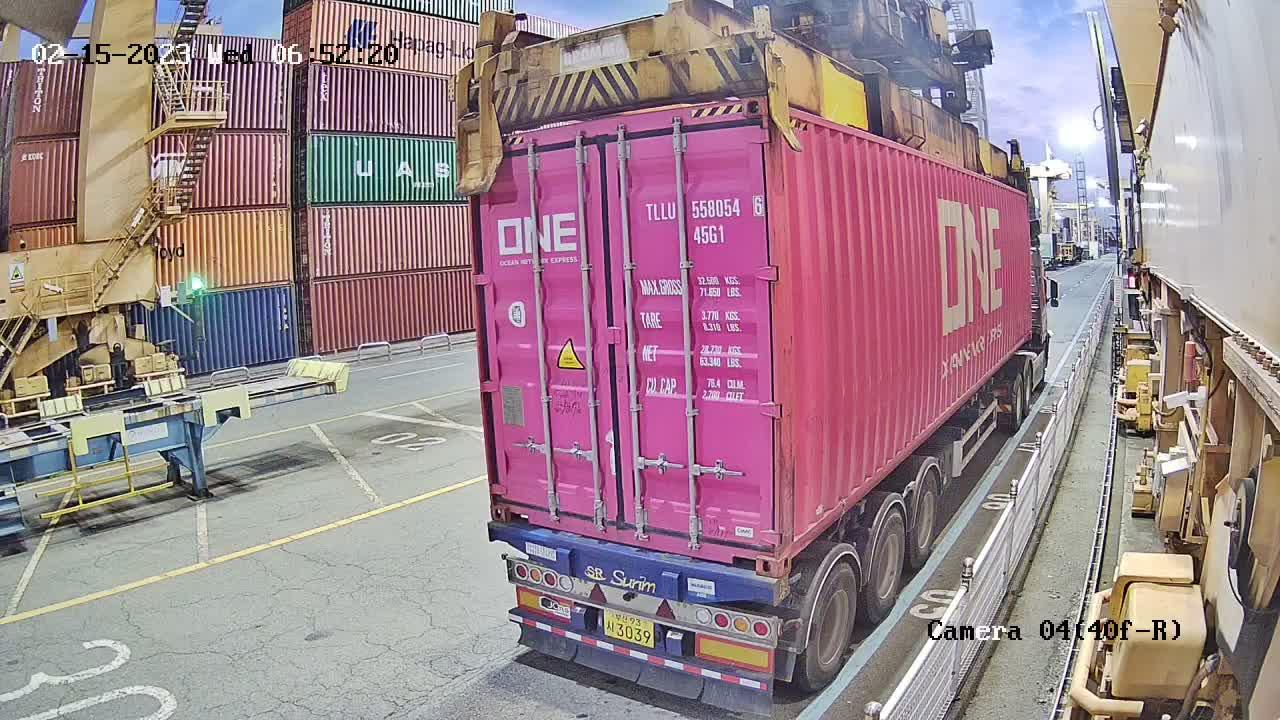Chassis: (485, 526, 775, 609)
Cone: (775, 571, 798, 606)
Hole_L: (781, 501, 810, 584), (488, 476, 532, 523)
Hole_R: (733, 522, 779, 580)
Tire: (806, 566, 858, 684), (864, 511, 906, 622), (909, 472, 940, 562)
